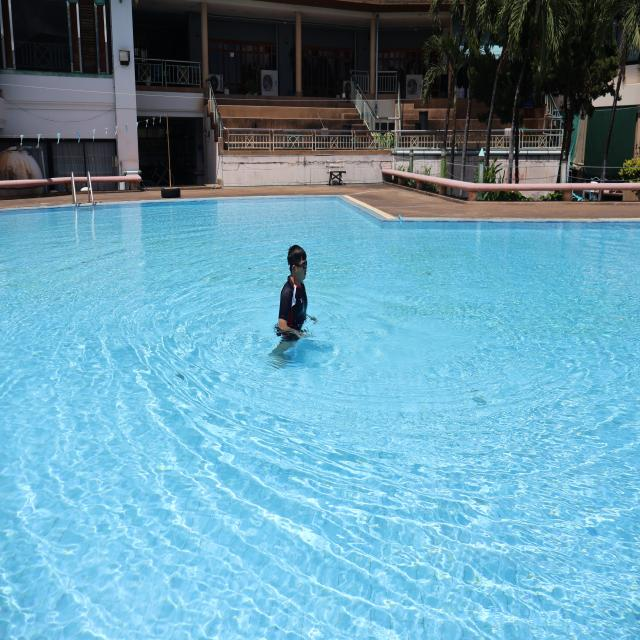Swimming: (274, 245, 318, 345)
